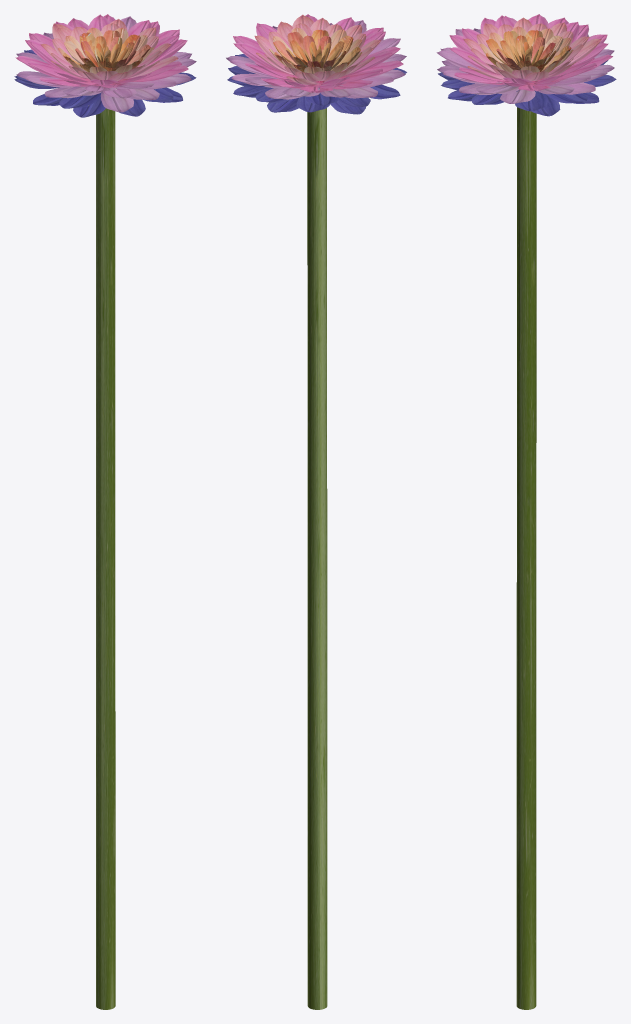
Rendered from flor_10.fbx.
3 views of the same model, side by side, from view 1: azimuth 30°, elevation 25°; view 2: azimuth 150°, elevation 25°; view 3: azimuth 270°, elevation 25° (orthographic).
Visible parts, largest first — view 1: Plane.068; view 2: Plane.068; view 3: Plane.068.
Boxes of the visible parts, x1,y1,x2,y2 form: Plane.068: [14, 14, 196, 1009]; Plane.068: [226, 14, 406, 1009]; Plane.068: [436, 14, 616, 1009].
Bounding box in the file's own units: 131 × 761 × 129.
Materials: 2 (2 with a texture image).
